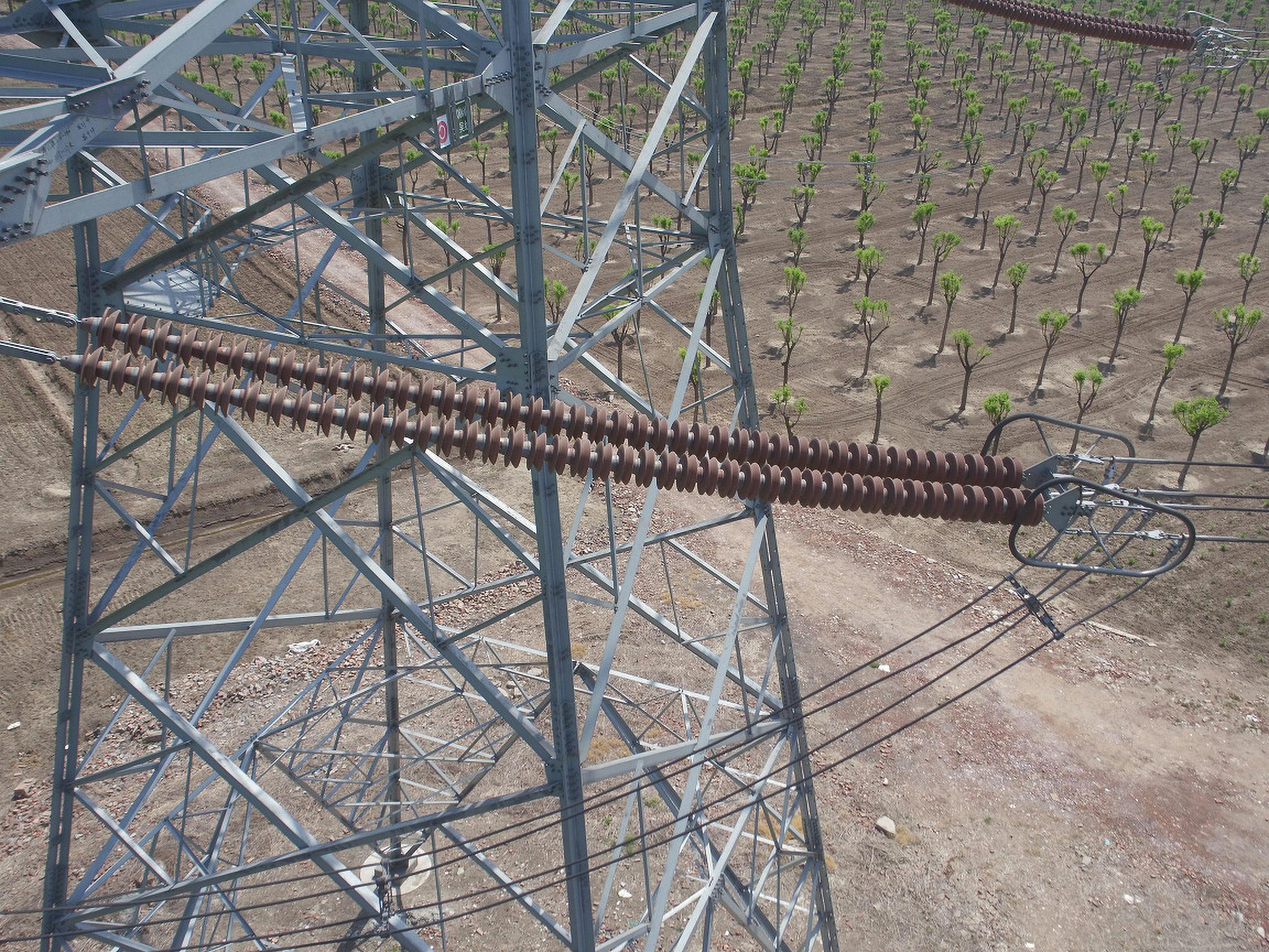insulator: (74, 301, 1048, 530), (945, 1, 1198, 52)
